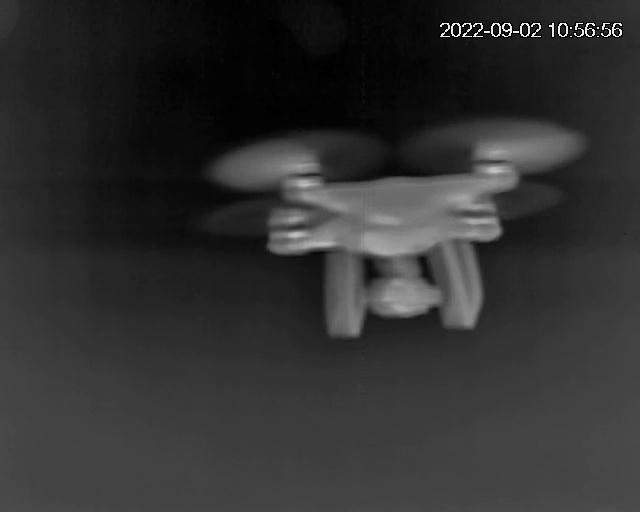DJI-Phantom: (246, 141, 544, 334)
